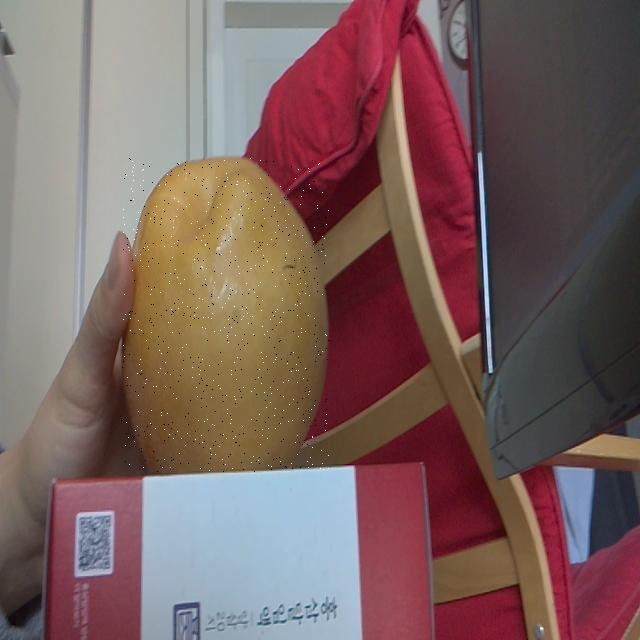pear: (122, 158, 329, 472)
